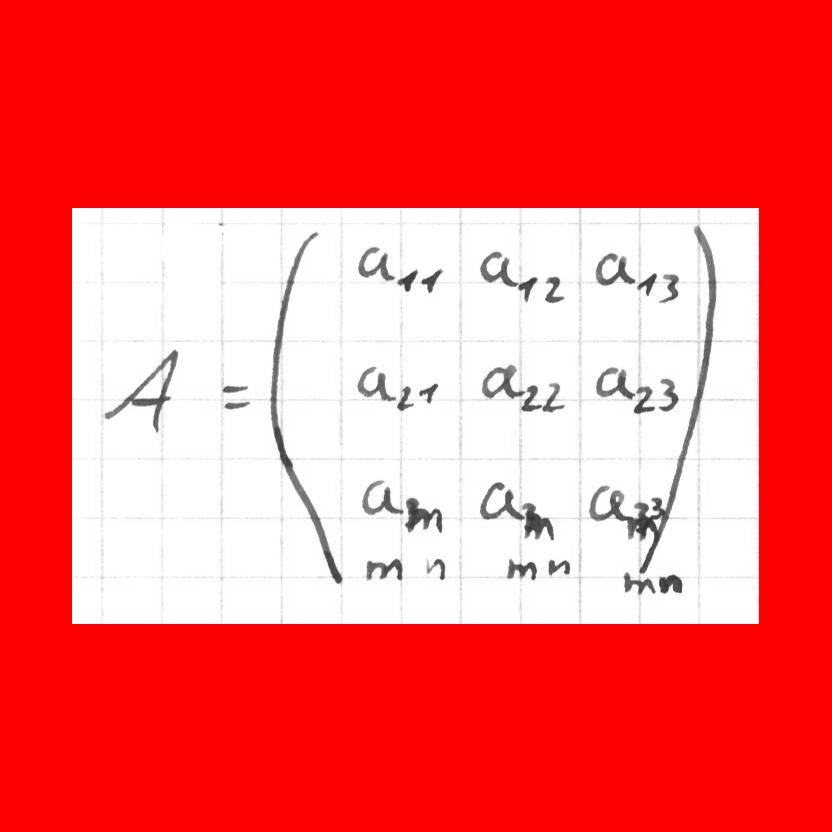Char: (265, 235, 317, 431), (683, 219, 720, 432), (100, 346, 183, 430), (478, 479, 522, 522), (477, 247, 521, 288), (480, 362, 525, 400), (592, 249, 634, 289), (354, 362, 394, 402), (588, 484, 628, 522), (591, 364, 632, 401), (405, 494, 441, 536), (361, 478, 397, 518), (356, 243, 391, 282), (629, 494, 654, 548), (217, 377, 251, 413), (522, 502, 554, 540), (361, 555, 403, 583), (621, 569, 653, 598), (657, 375, 679, 413), (505, 557, 539, 581), (417, 263, 441, 297), (629, 384, 656, 414), (541, 381, 566, 411), (656, 570, 683, 596), (520, 383, 543, 413), (542, 274, 563, 306), (395, 265, 417, 295), (658, 273, 680, 303), (516, 276, 539, 304), (417, 379, 439, 407), (394, 382, 414, 412), (424, 556, 448, 581), (634, 271, 657, 297), (545, 557, 570, 579), (649, 494, 666, 519)
